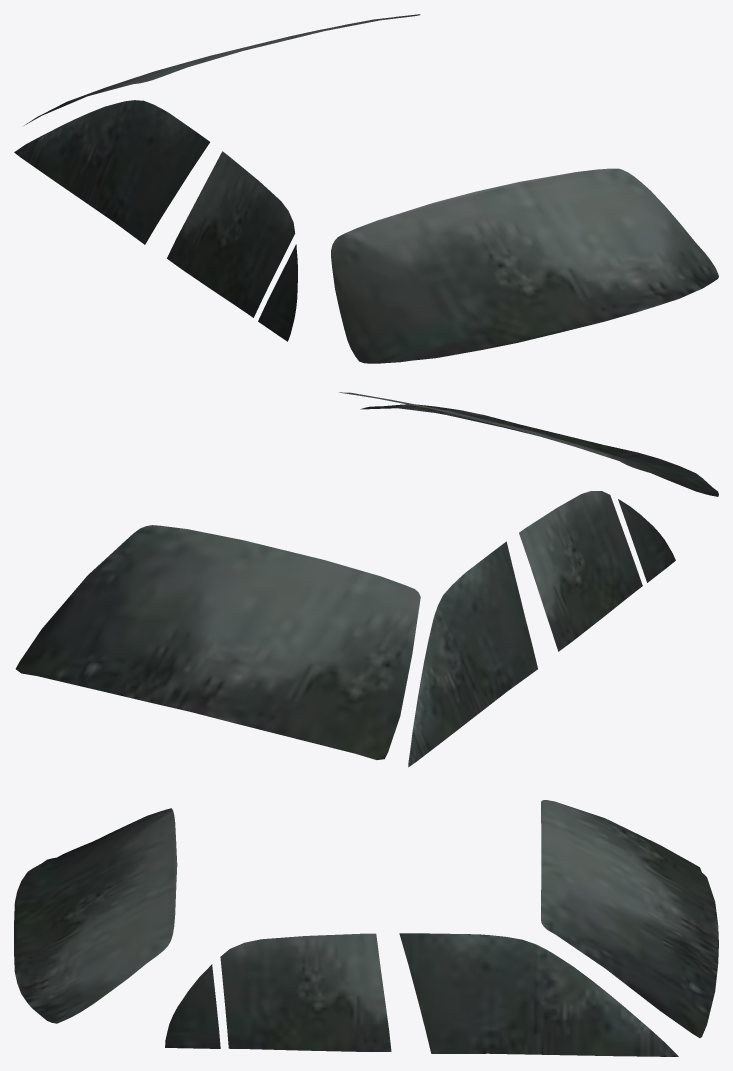
File: car_nuke_glass.glb
3 renders of one model, top to bottom at view 1: azimuth 30°, elevation 25°; view 2: azimuth 150°, elevation 25°; view 3: azimuth 270°, elevation 25°, orthographic. The views are drawn at different scales.
Parts seen in each view (by area): view 1: 0_car_nuke; view 2: 0_car_nuke; view 3: 0_car_nuke.
Part boxes in pixels (x1=…): 0_car_nuke: x1=14, y1=14, x2=718, y2=363; 0_car_nuke: x1=15, y1=392, x2=718, y2=767; 0_car_nuke: x1=14, y1=800, x2=718, y2=1056.
Bounding box in the file's own units: 1.8 × 0.507 × 2.93.
1 material, 1 textured.
